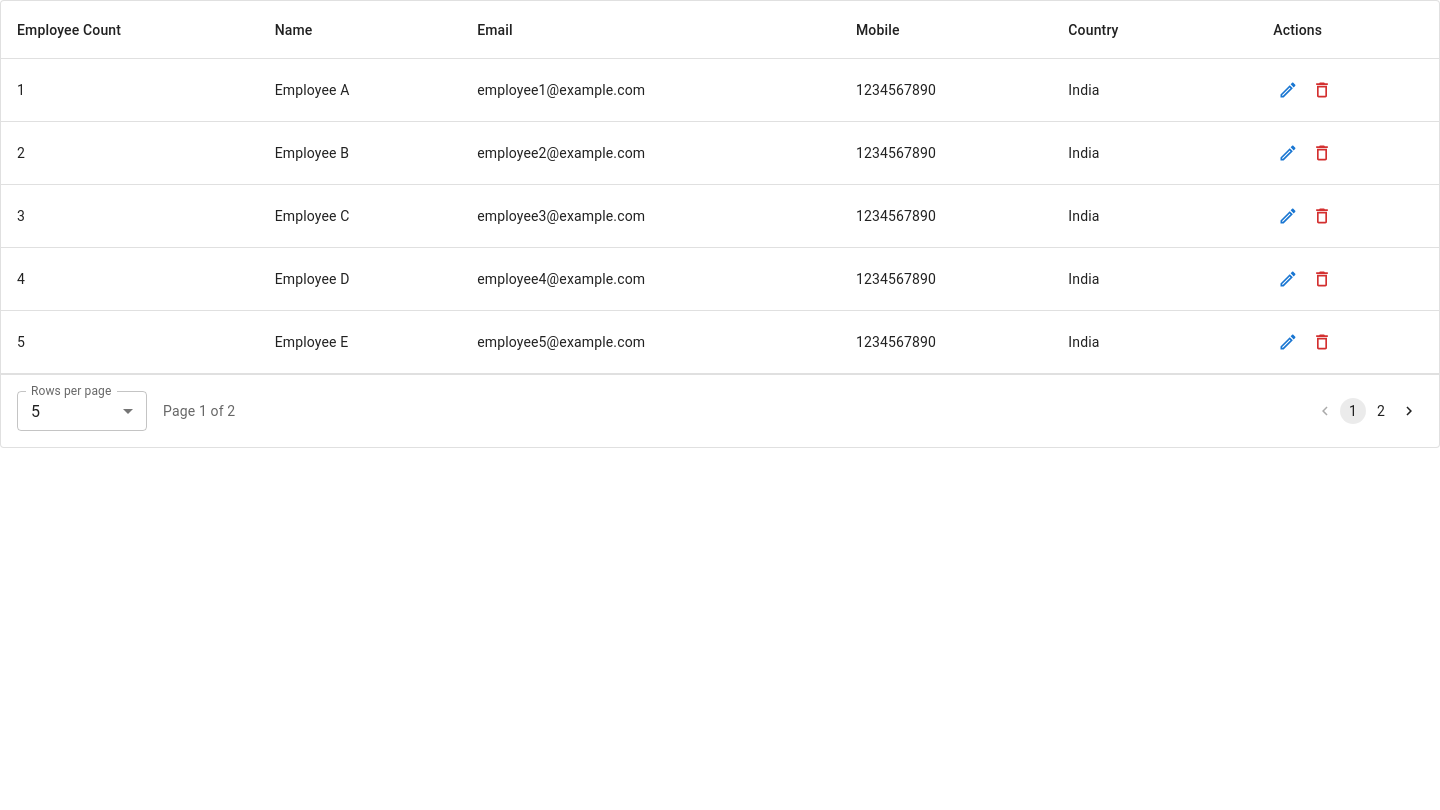
Scenario: App › supports changing the rows per page
This screenshot has width=1440, height=810.
Press the mouse on the dropdown named "Rows per page": [36, 411] box 31,402 -> 40,421
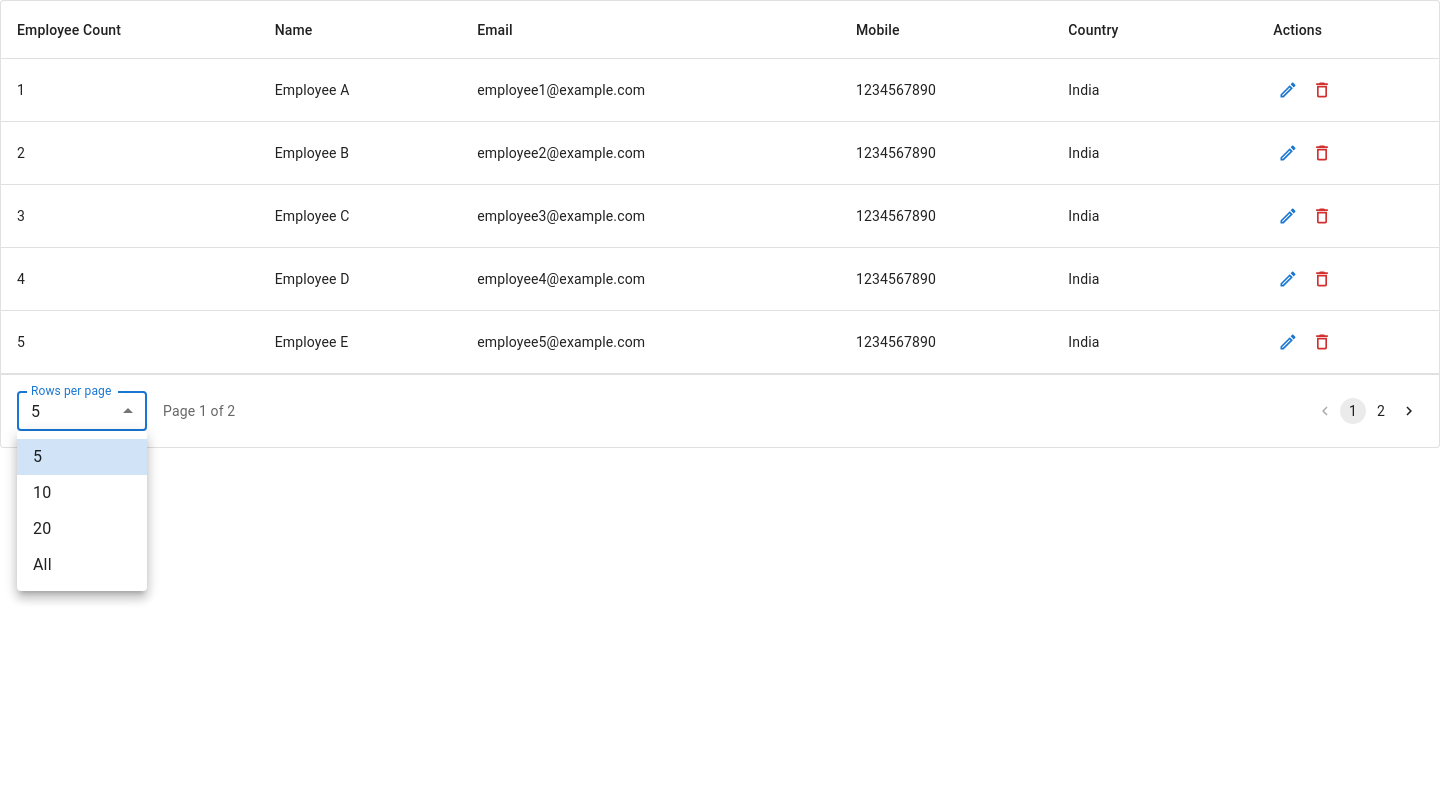
Click the option "10": [42, 492] box 33,483 -> 51,502
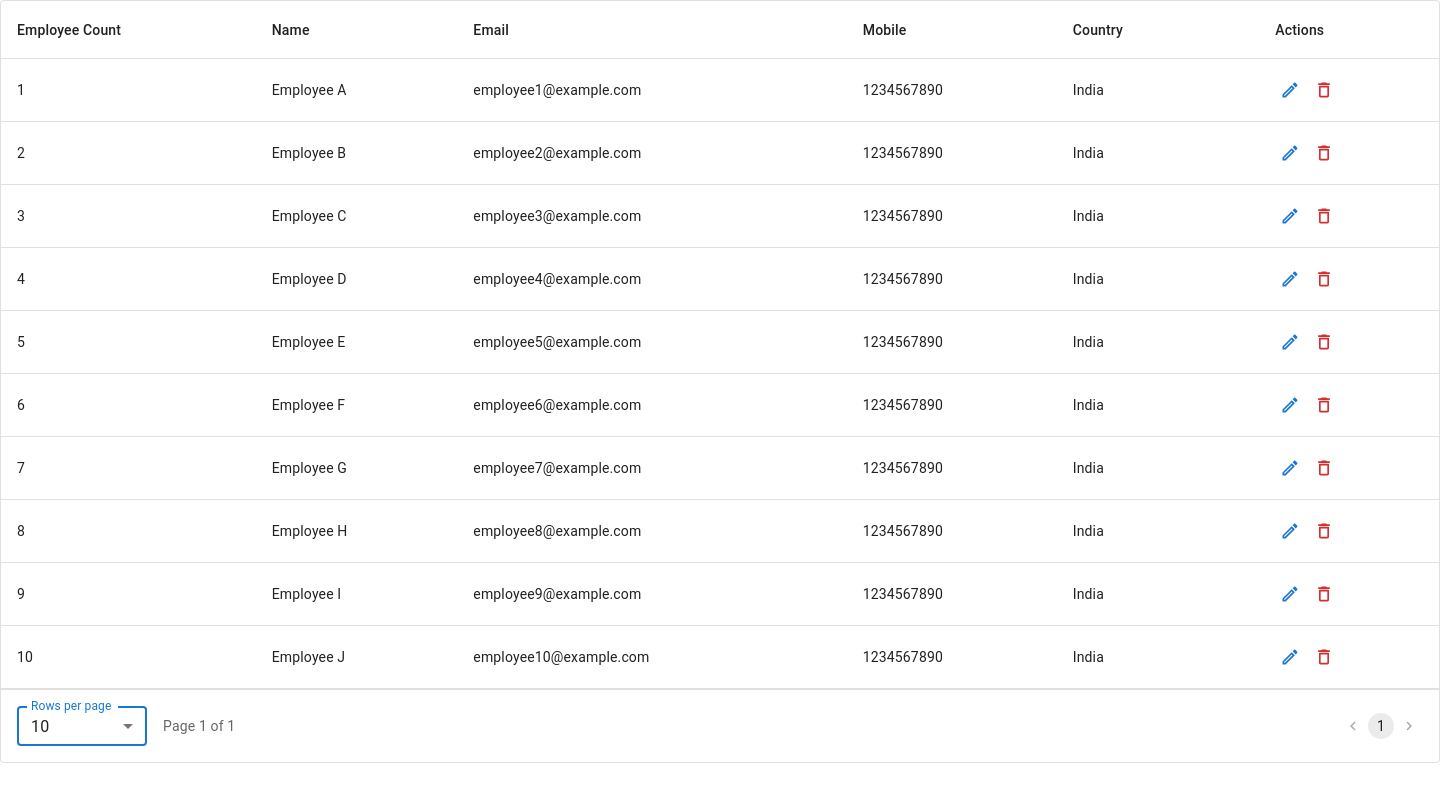
Now the text "Employee J" is shown, box 256,626 -> 457,689
Now the text "Page 1 of 1" is shown, box 163,716 -> 235,736
